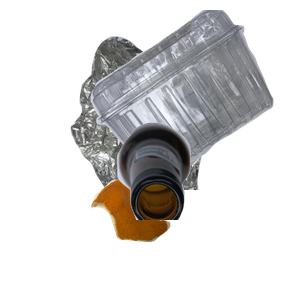glass: (115, 120, 300, 300)
metal: (68, 34, 300, 214)
plastic: (88, 10, 300, 180)
trash: (88, 177, 251, 300)
